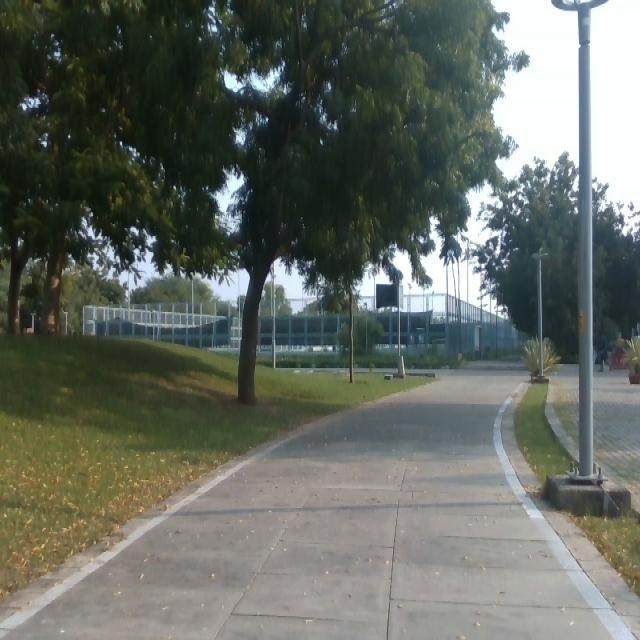lane: (7, 377, 611, 638)
